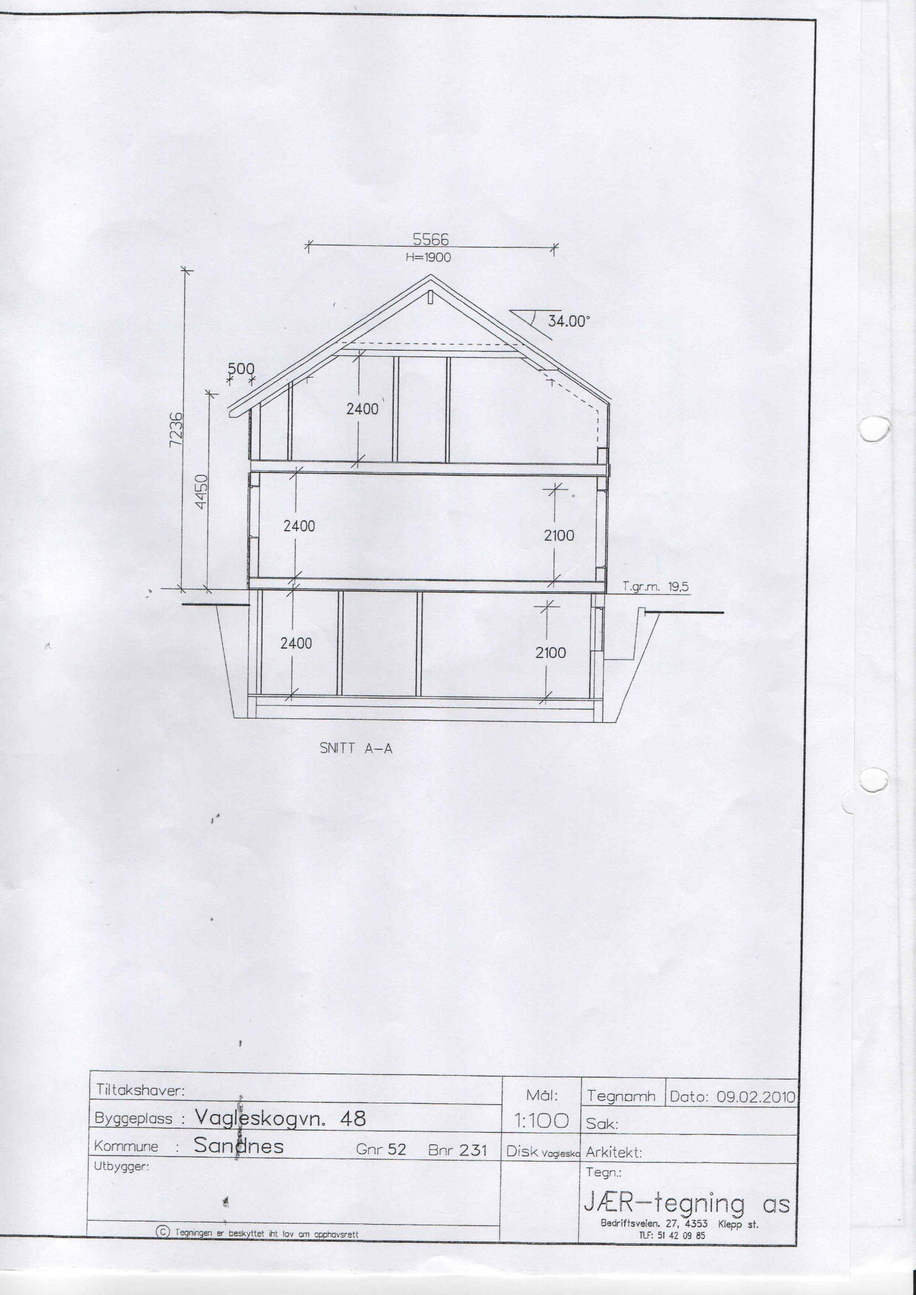snitt: (197, 271, 662, 728)
